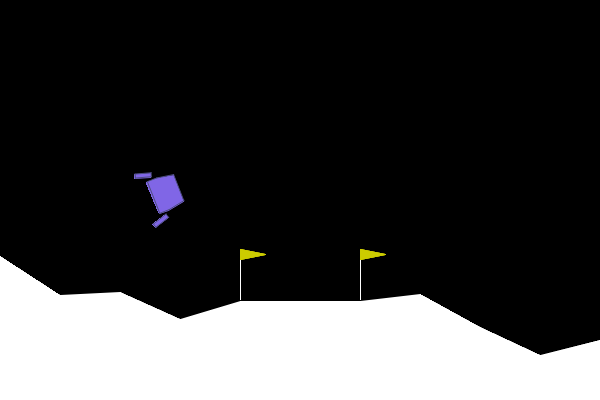lander: (132, 159, 191, 230)
